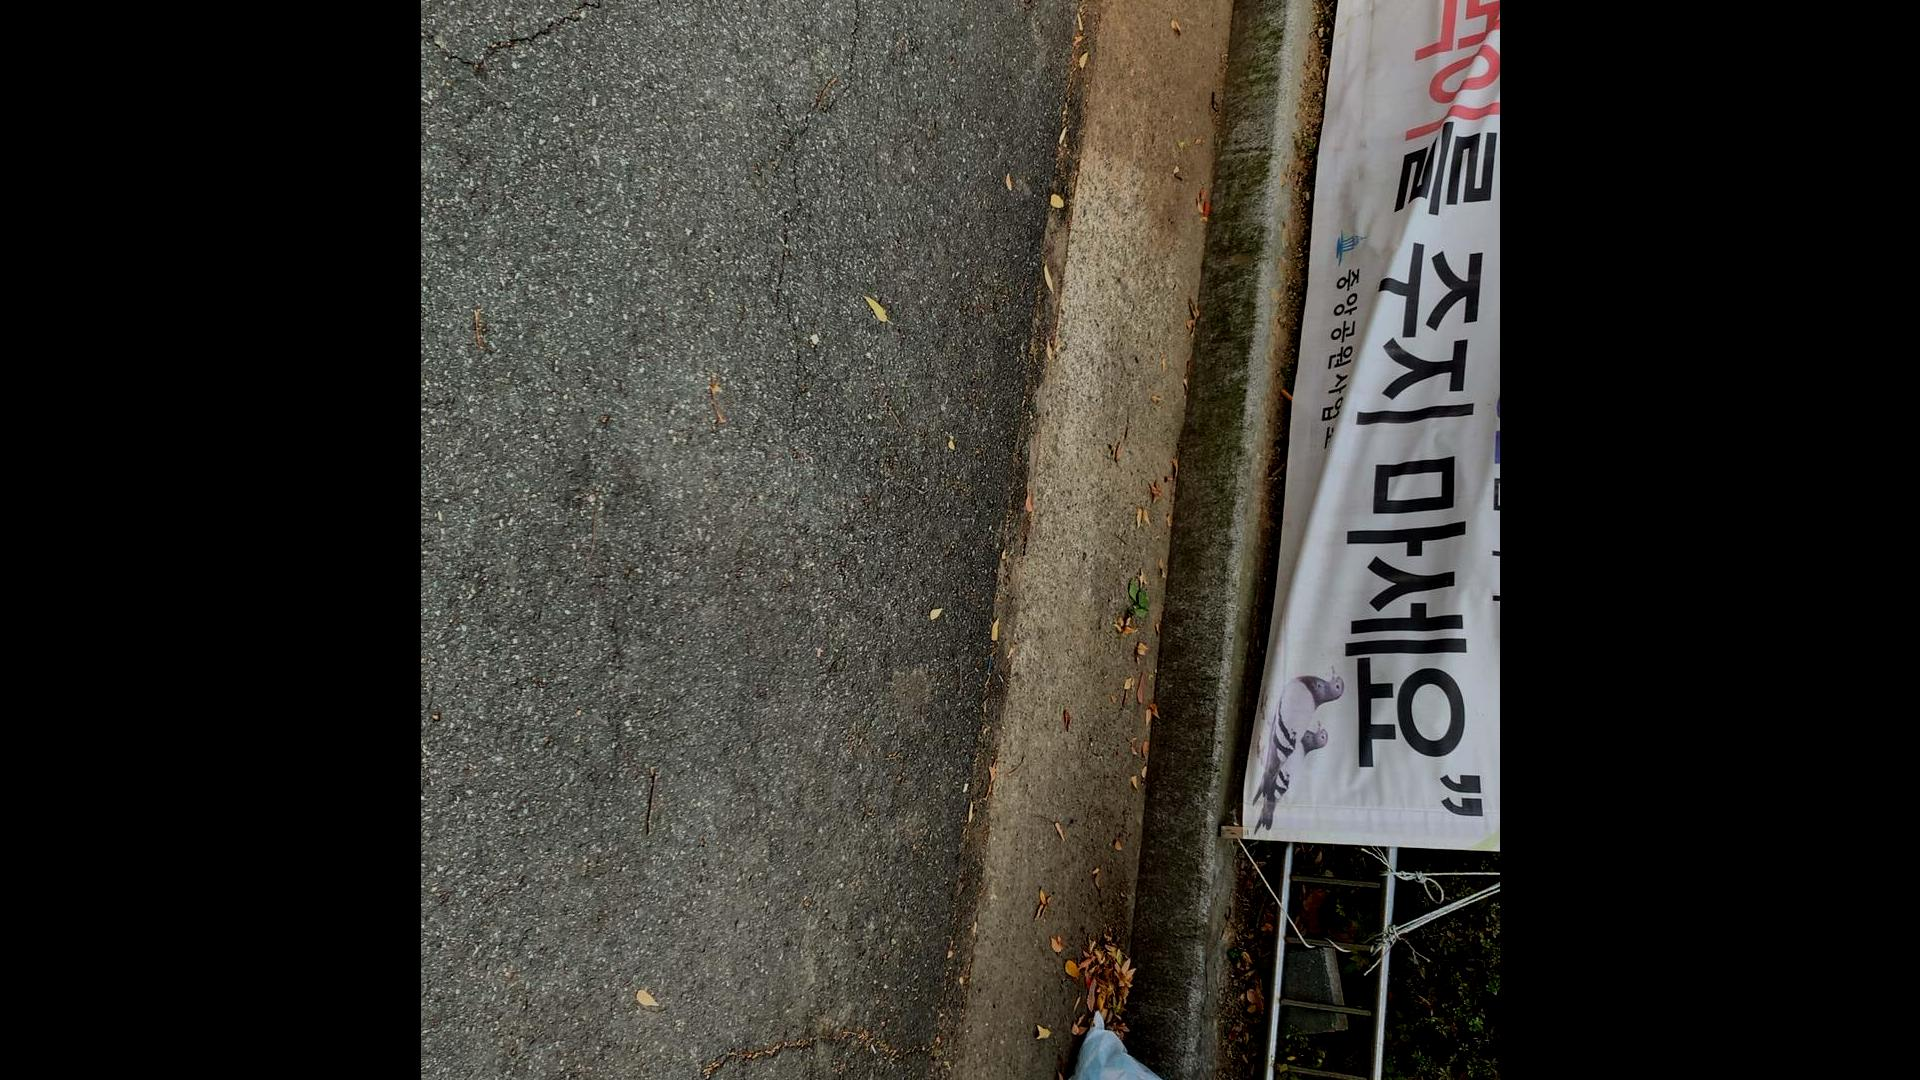white_bag: (1005, 996, 1299, 1080)
